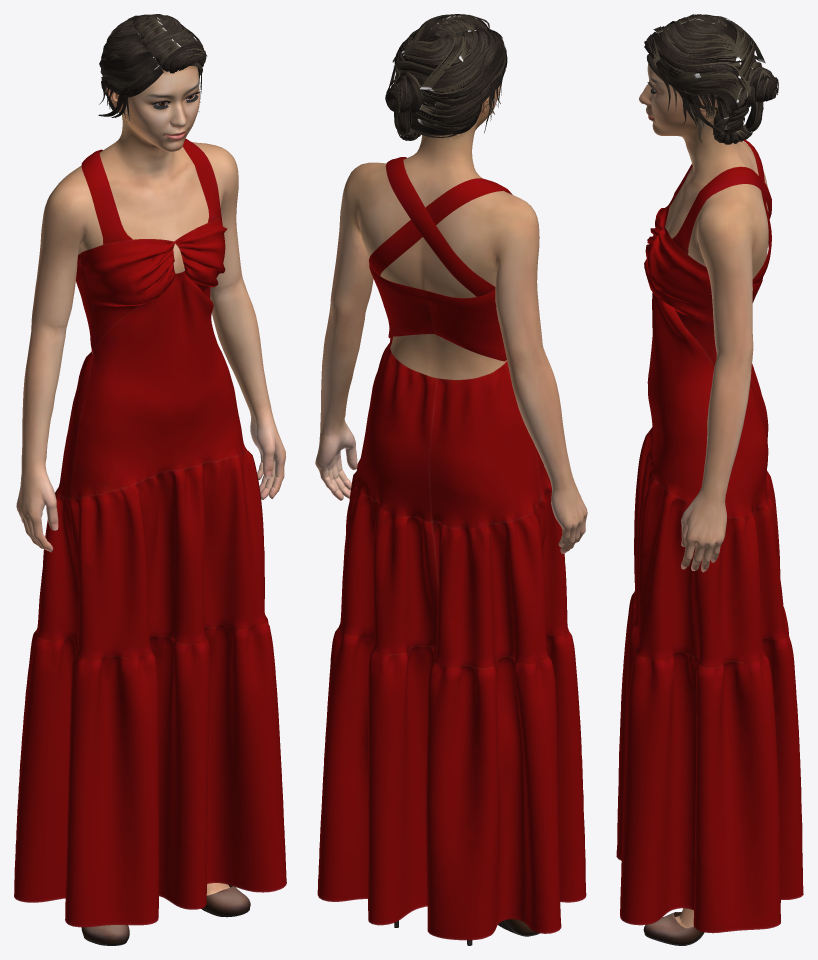
The model's file is red_cross-halter_dress.optimized.glb.
3 views of the same model, side by side, from view 1: azimuth 30°, elevation 25°; view 2: azimuth 150°, elevation 25°; view 3: azimuth 270°, elevation 25° (orthographic).
Visible parts, largest first — view 1: object 9, Sub_0_falema_falema_lambert2SG1_0, Sub_0_falema_falema_lambert7SG1_0, Sub_1_toufa3:lambert10SG1_0, Sub_0_falema_falema_lambert4SG1_0, Sub_2_lambert5_0; view 2: object 9, Sub_0_falema_falema_lambert2SG1_0, Sub_0_falema_falema_lambert7SG1_0, Sub_1_toufa3:lambert10SG1_0, Sub_1_toufa3:lambert13SG1_0; view 3: object 9, Sub_0_falema_falema_lambert2SG1_0, Sub_1_toufa3:lambert10SG1_0, Sub_0_falema_falema_lambert7SG1_0, Sub_0_falema_falema_lambert4SG1_0, Sub_2_lambert5_0, Sub_1_toufa3:lambert13SG1_0.
Boxes of the visible parts, x1,y1,x2,y2 form: object 9: (14, 138, 286, 927); Sub_0_falema_falema_lambert2SG1_0: (16, 159, 285, 895); Sub_0_falema_falema_lambert7SG1_0: (51, 113, 234, 353); Sub_1_toufa3:lambert10SG1_0: (98, 14, 207, 122); Sub_0_falema_falema_lambert4SG1_0: (106, 66, 199, 151); Sub_2_lambert5_0: (81, 884, 250, 945); object 9: (317, 157, 586, 940); Sub_0_falema_falema_lambert2SG1_0: (315, 173, 587, 553); Sub_0_falema_falema_lambert7SG1_0: (350, 105, 535, 379); Sub_1_toufa3:lambert10SG1_0: (385, 14, 507, 140); Sub_1_toufa3:lambert13SG1_0: (390, 19, 502, 139); object 9: (616, 139, 803, 933); Sub_0_falema_falema_lambert2SG1_0: (675, 222, 755, 927); Sub_1_toufa3:lambert10SG1_0: (644, 14, 778, 144); Sub_0_falema_falema_lambert7SG1_0: (665, 95, 768, 278); Sub_0_falema_falema_lambert4SG1_0: (639, 60, 716, 136); Sub_2_lambert5_0: (643, 912, 704, 945); Sub_1_toufa3:lambert13SG1_0: (671, 21, 761, 143).
Bounding box in the file's own units: 0.5191 × 1.72 × 0.3265.
9 materials, 9 textured.
